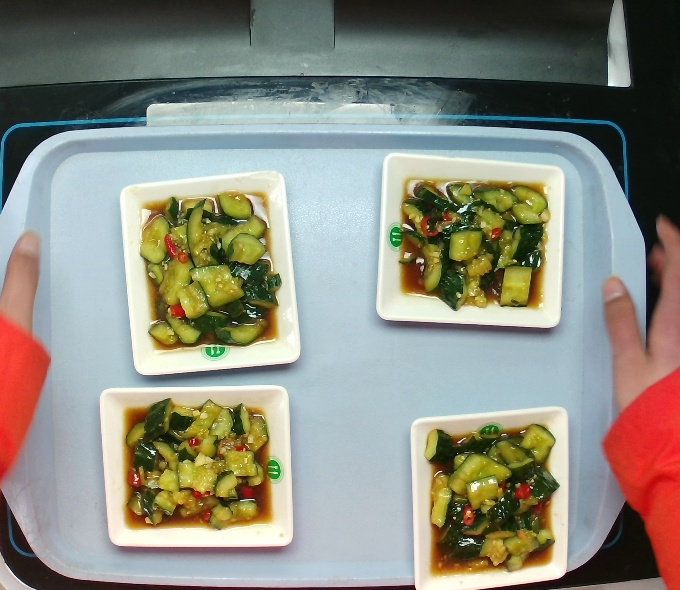wcq-LiangBanHuangGua: (125, 181, 298, 359), (391, 171, 555, 313), (418, 421, 562, 571), (120, 396, 277, 531)
